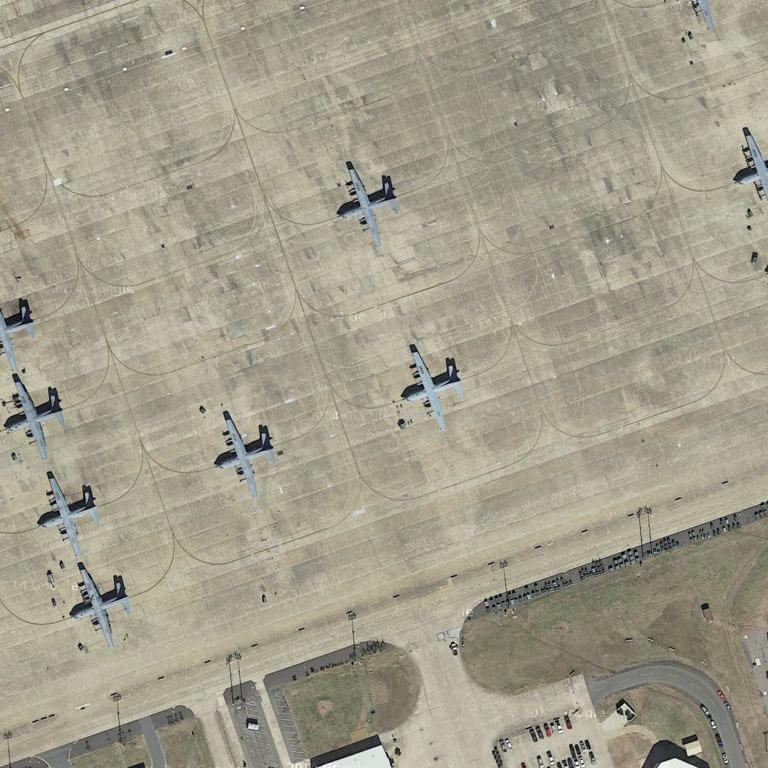C-130: (67, 563, 135, 646), (335, 160, 402, 244), (400, 344, 465, 430), (38, 469, 99, 557), (211, 417, 274, 499), (5, 379, 64, 454)
